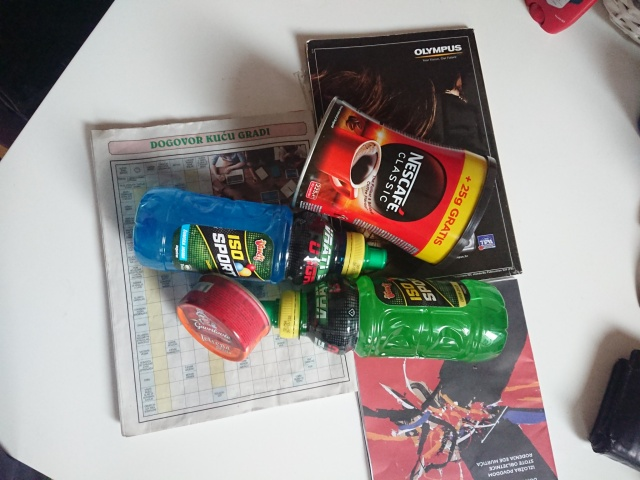Gavrilovic Pork Liver Pate 100g: (174, 271, 273, 364)
Nescafe Classic 225g: (289, 94, 499, 274)
Vindi Iso Sport Forest Strawberries 500mL: (131, 185, 390, 287)
Vindi Iso Sport Lemon-Grapefruit 500mL: (257, 272, 511, 366)
